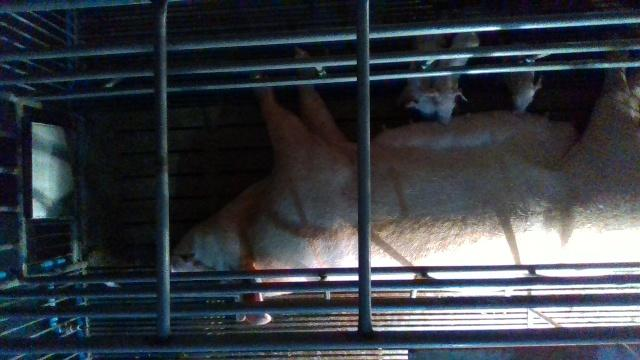piglet: (427, 32, 478, 125), (399, 58, 436, 119), (507, 56, 544, 114)
sow-sleep-lactate: (171, 44, 640, 325)
